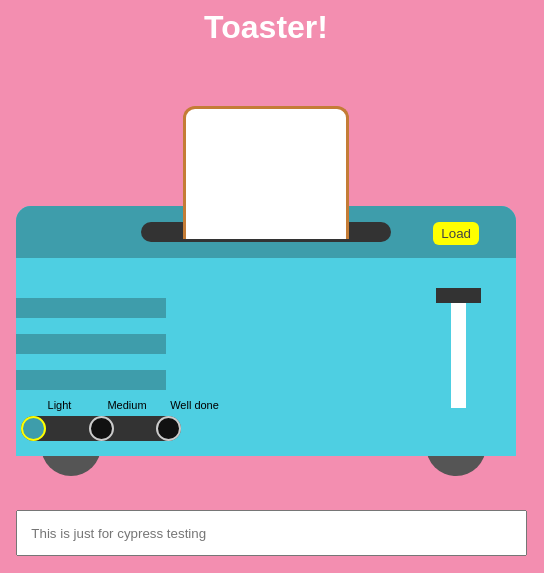
Ensure page runs and tests in cypress › Click the lever and check new toast is disabled
The image size is (544, 573).
Click the button with class "handle".
click(459, 296)  # box [436, 288, 481, 303]
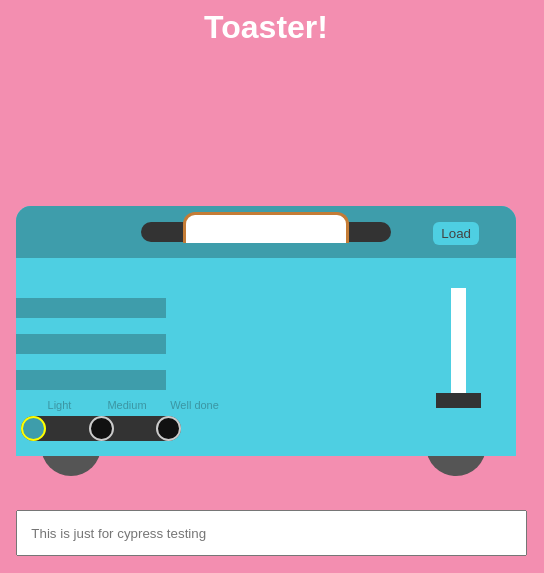
Check: the button with class "loadToast" is disabled, box [433, 222, 479, 245]
